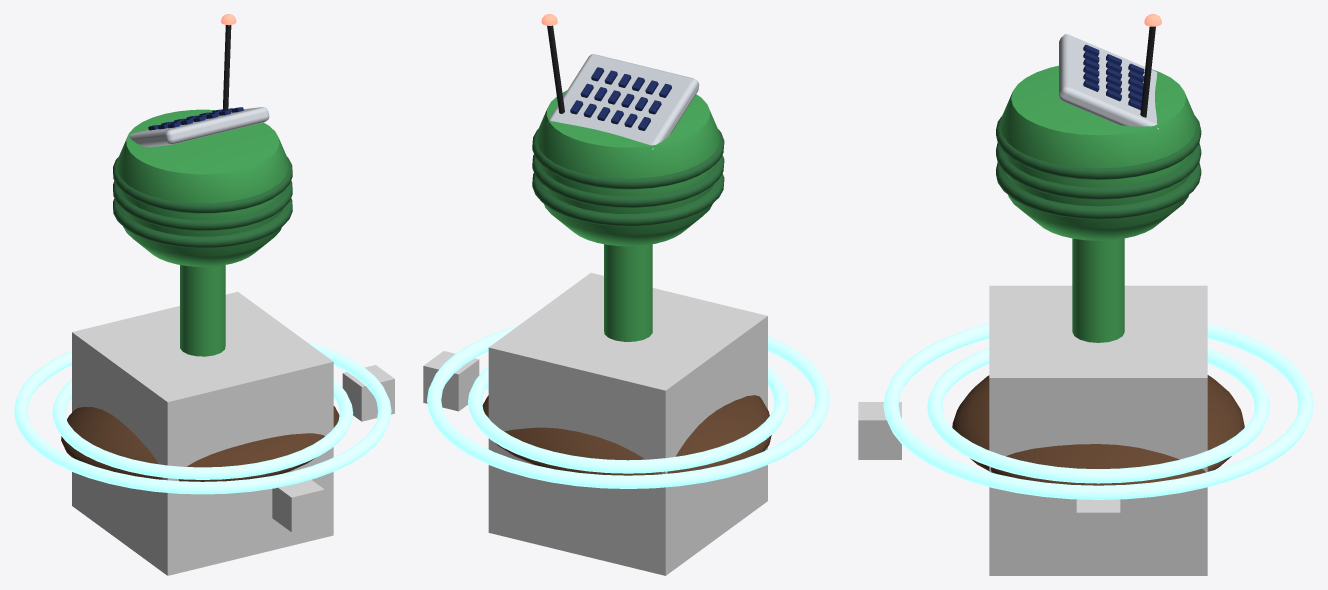
The model's file is MoleTrap.fbx.
3 views of the same model, side by side, from view 1: azimuth 30°, elevation 25°; view 2: azimuth 150°, elevation 25°; view 3: azimuth 270°, elevation 25° (orthographic). The views are drawn at different scales.
Parts seen in each view (by area): view 1: Origin__Pivot, Body__Green, Wave1__NeonCyan, Body__GreenDark, Body__Soil, Wave0__NeonCyan, Body__Chrome, Origin__AxisZ, Origin__AxisX, Body__SolarCell, Body__Black; view 2: Origin__Pivot, Body__Green, Wave1__NeonCyan, Body__GreenDark, Body__Chrome, Body__Soil, Wave0__NeonCyan, Body__SolarCell, Origin__AxisX, Body__Black; view 3: Origin__Pivot, Body__Green, Wave1__NeonCyan, Body__GreenDark, Wave0__NeonCyan, Body__Soil, Body__Chrome, Origin__AxisX, Origin__AxisZ, Body__SolarCell, Body__Black.
Part boxes in pixels (x1,y1,x2,y2): Origin__Pivot: [72, 291, 333, 575]; Body__Green: [116, 109, 288, 356]; Wave1__NeonCyan: [14, 341, 391, 494]; Body__GreenDark: [113, 157, 292, 248]; Body__Soil: [61, 406, 339, 481]; Wave0__NeonCyan: [52, 379, 353, 479]; Body__Chrome: [129, 107, 269, 147]; Origin__AxisZ: [272, 479, 324, 532]; Origin__AxisX: [342, 365, 394, 421]; Body__SolarCell: [148, 107, 243, 130]; Body__Black: [223, 25, 231, 109]; Origin__Pivot: [488, 273, 767, 575]; Body__Green: [536, 90, 719, 341]; Wave1__NeonCyan: [427, 326, 829, 488]; Body__GreenDark: [532, 129, 724, 226]; Body__Chrome: [547, 54, 699, 149]; Body__Soil: [482, 395, 771, 475]; Wave0__NeonCyan: [468, 366, 788, 473]; Body__SolarCell: [570, 67, 671, 130]; Origin__AxisX: [423, 351, 479, 411]; Body__Black: [547, 25, 564, 113]; Origin__Pivot: [989, 285, 1207, 575]; Body__Green: [1000, 65, 1196, 342]; Wave1__NeonCyan: [883, 323, 1313, 499]; Body__GreenDark: [996, 115, 1201, 219]; Wave0__NeonCyan: [927, 348, 1269, 483]; Body__Soil: [952, 375, 1244, 485]; Body__Chrome: [1059, 34, 1158, 129]; Origin__AxisX: [1076, 499, 1120, 552]; Origin__AxisZ: [858, 402, 901, 459]; Body__SolarCell: [1083, 44, 1144, 109]; Body__Black: [1140, 26, 1155, 117].
Size of the model in its own units: 2.09 by 2.74 by 2.09.
